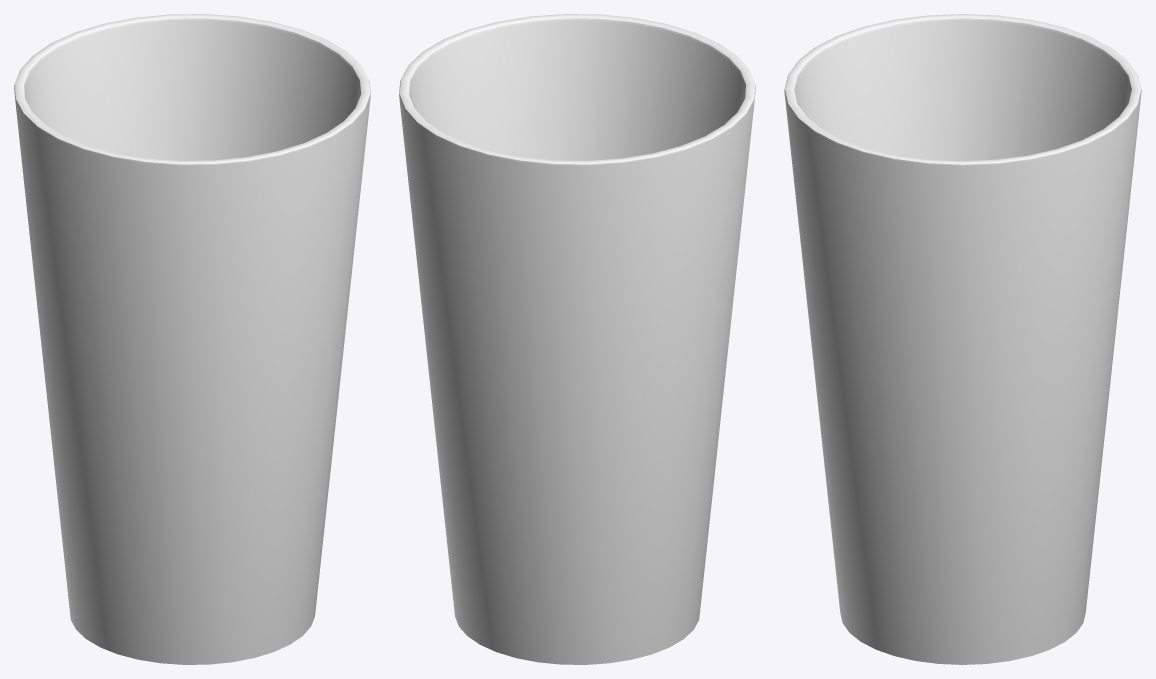
The model's file is StarbucksCup.fbx.
The picture shows the model from 3 angles, left to right: view 1: azimuth 30°, elevation 25°; view 2: azimuth 150°, elevation 25°; view 3: azimuth 270°, elevation 25°; orthographic projection.
Visible parts, largest first — view 1: Cup; view 2: Cup; view 3: Cup.
Boxes of the visible parts, x1,y1,x2,y2 form: Cup: [14, 14, 370, 664]; Cup: [399, 14, 755, 664]; Cup: [784, 14, 1141, 664].
Bounding box in the file's own units: 0.1157 × 0.1873 × 0.1157.
